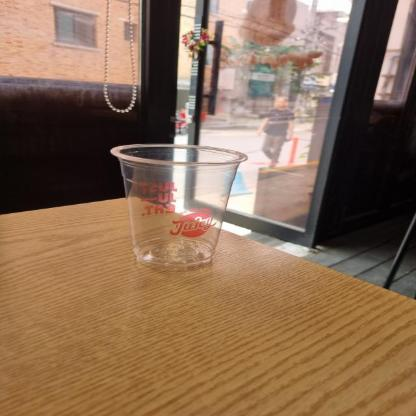Plastic Cup: (110, 142, 250, 276)
